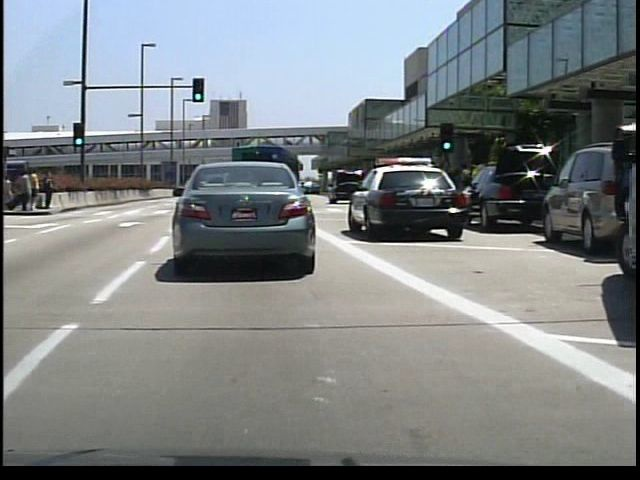person: (15, 169, 31, 214), (39, 168, 54, 211), (28, 165, 39, 213)
